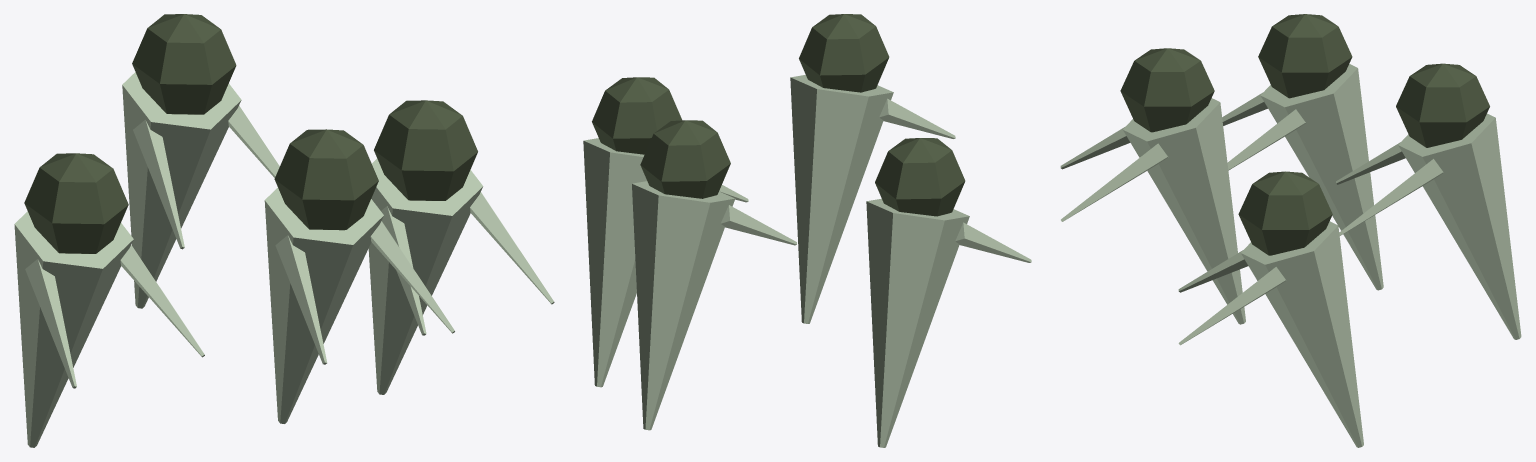
Rendered from locust.fbx.
3 renders of one model, left to right at view 1: azimuth 30°, elevation 25°; view 2: azimuth 150°, elevation 25°; view 3: azimuth 270°, elevation 25°, orthographic. The views are drawn at different scales.
Visible parts, largest first — view 1: locust; view 2: locust; view 3: locust.
Part boxes in pixels (x1,y1,x2,y2): locust: (14, 14, 554, 447); locust: (583, 14, 1031, 447); locust: (1060, 14, 1521, 447).
Bounding box in the file's own units: 1.17 × 0.923 × 1.17.
Materials: 2 (1 with a texture image).
